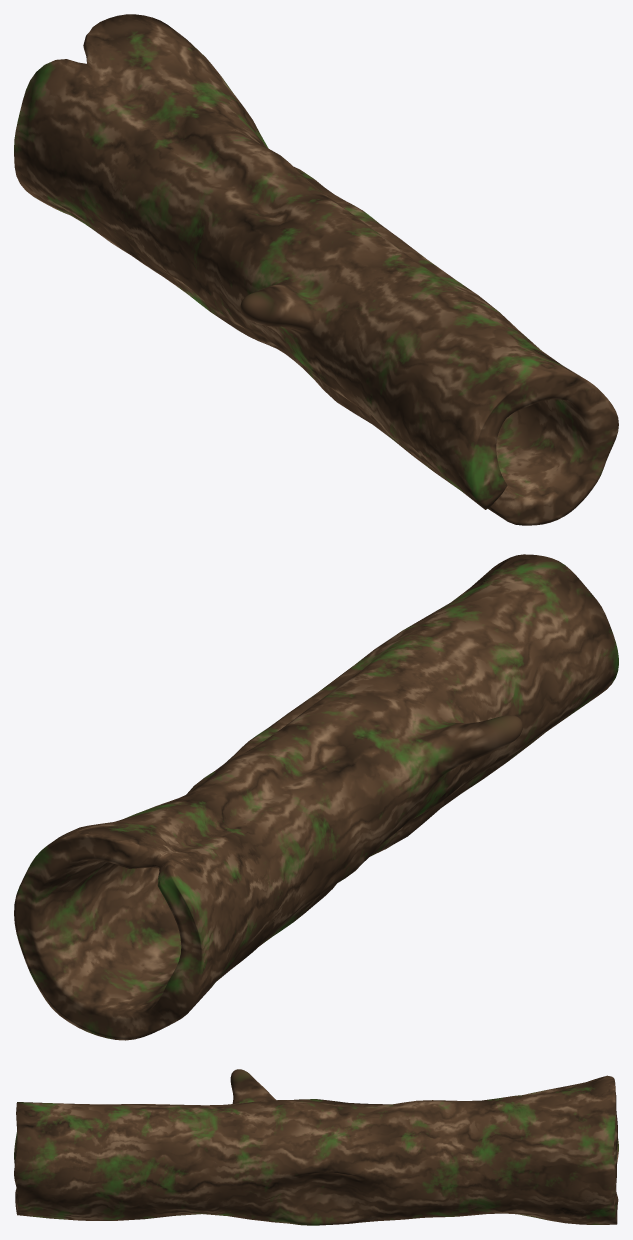
The model's file is DeadTreeLog.fbx.
3 renders of one model, top to bottom at view 1: azimuth 30°, elevation 25°; view 2: azimuth 150°, elevation 25°; view 3: azimuth 270°, elevation 25°, orthographic. The views are drawn at different scales.
Parts seen in each view (by area): view 1: DeadTreeLog; view 2: DeadTreeLog; view 3: DeadTreeLog.
Part boxes in pixels (left/top/right/bottom): DeadTreeLog: left=14, top=14, right=618, bottom=525; DeadTreeLog: left=14, top=554, right=618, bottom=1040; DeadTreeLog: left=14, top=1069, right=618, bottom=1225.
Size of the model in its own units: 68.97 by 56.36 by 226.
